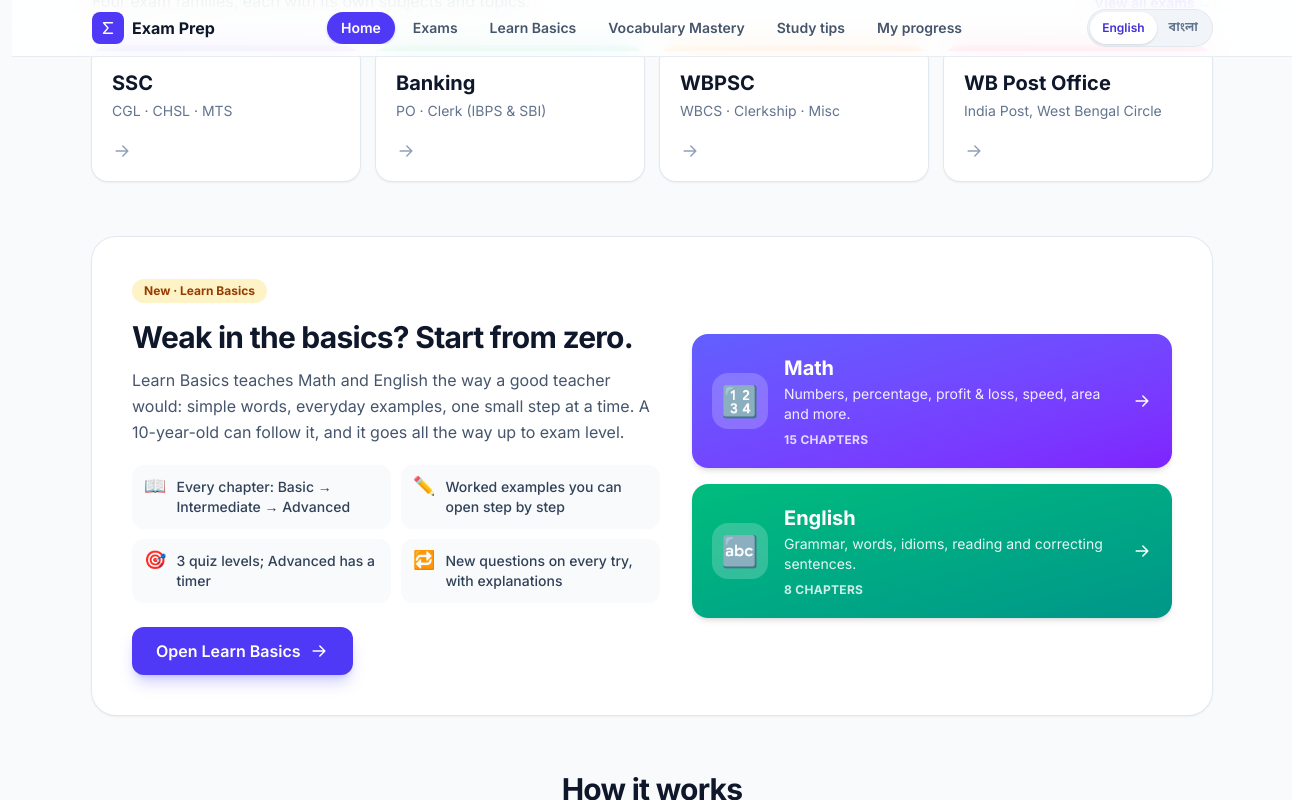
Test case: learn › home keeps the exams, adds a Learn Basics section, and opens a subject
(page scrolled)
Check: the link "Exams" is shown, box [413, 19, 458, 36]
Check: the heading "Weak in the basics? Start from zero." is shown, box [132, 318, 660, 354]
Click the link that starts with "Math". click: point(932, 400)
box: [692, 334, 1172, 468]
(page scrolled)
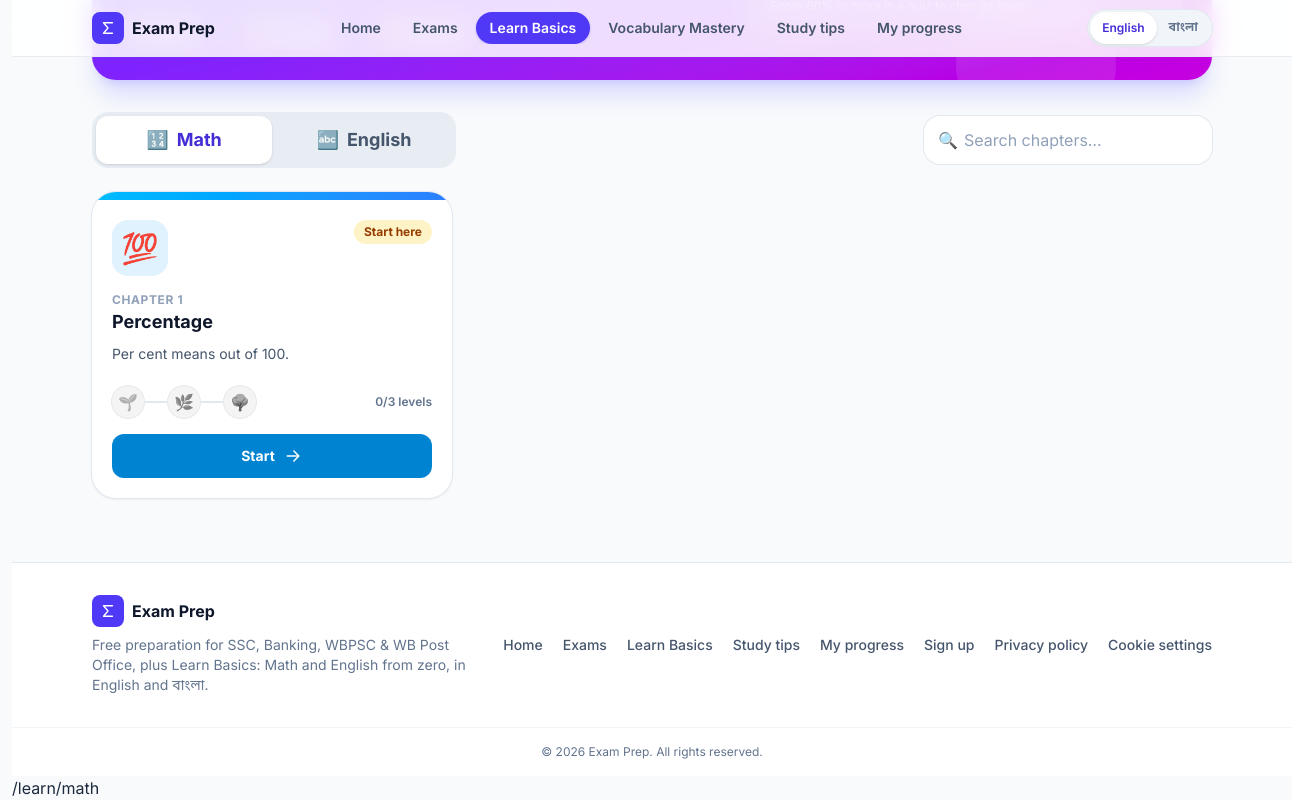
Check: the text with test id "path" reads "/learn/math", box [12, 778, 99, 798]
Click the link "Percentage". click: point(272, 345)
box: [92, 192, 452, 498]
(page scrolled)
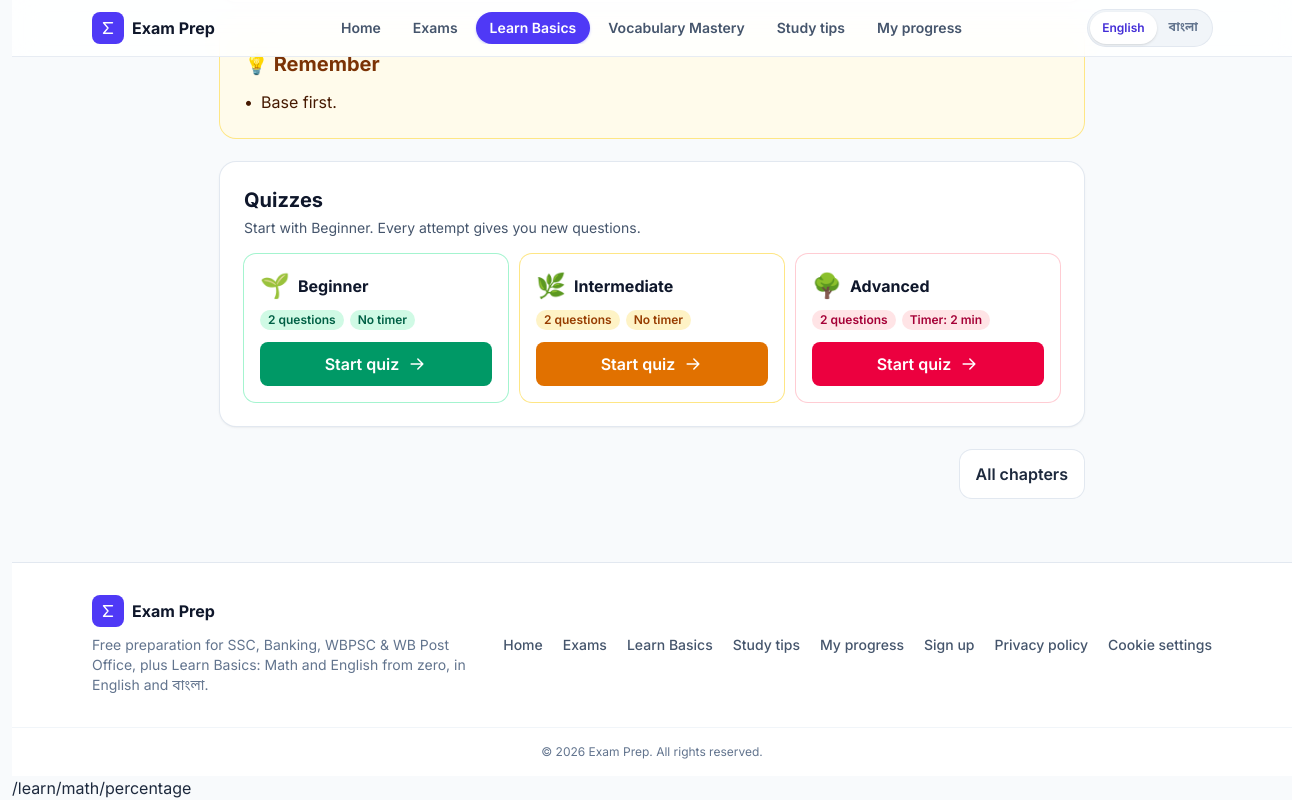
Check: the text with test id "path" reads "/learn/math/percentage", box [12, 778, 191, 798]
